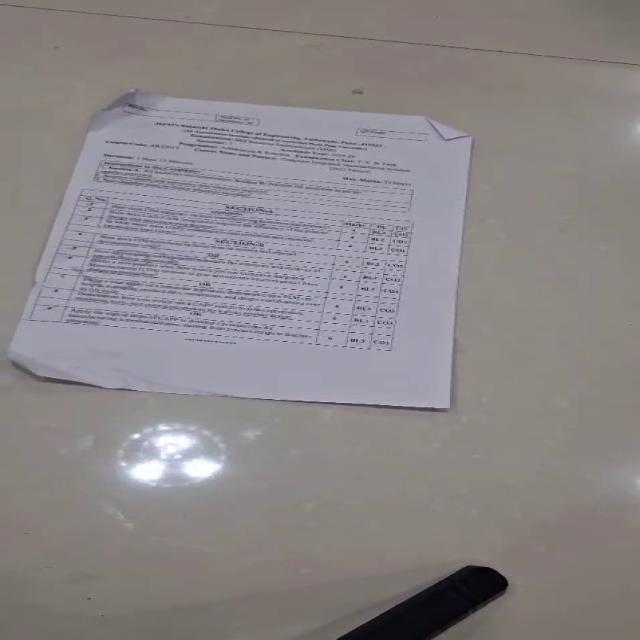paper: (7, 87, 474, 410)
